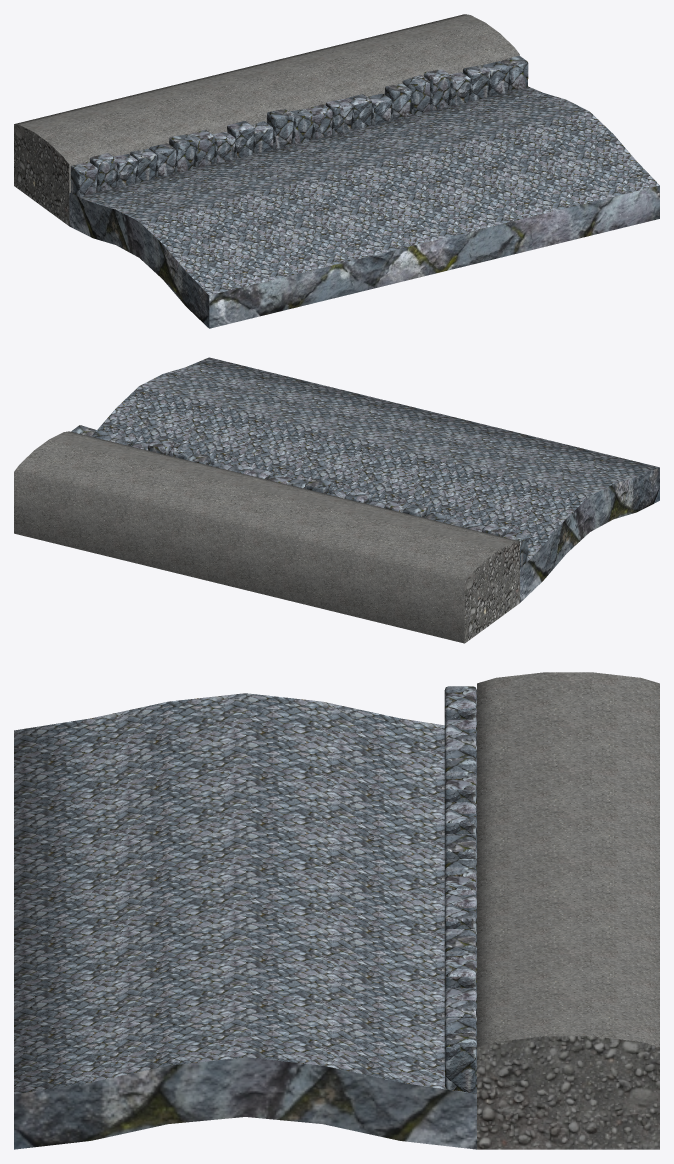
Rendered from Street_8m.fbx.
The picture shows the model from 3 angles, top to bottom: view 1: azimuth 30°, elevation 25°; view 2: azimuth 150°, elevation 25°; view 3: azimuth 270°, elevation 25°; orthographic projection. The views are drawn at different scales.
Visible parts, largest first — view 1: Street_8m; view 2: Street_8m; view 3: Street_8m.
Boxes of the visible parts, <box> form: Street_8m: <box>14,14,659,328</box>; Street_8m: <box>14,357,659,643</box>; Street_8m: <box>14,672,659,1149</box>.
Size of the model in its own units: 8 by 1.16 by 6.
